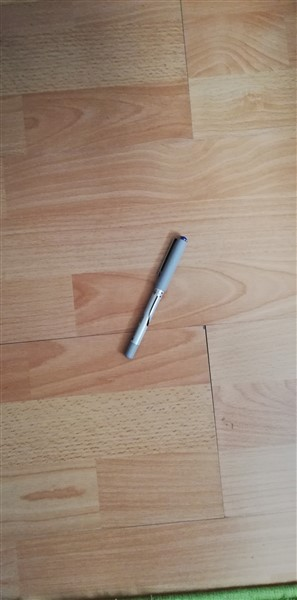pilot kalem: (120, 232, 191, 360)
